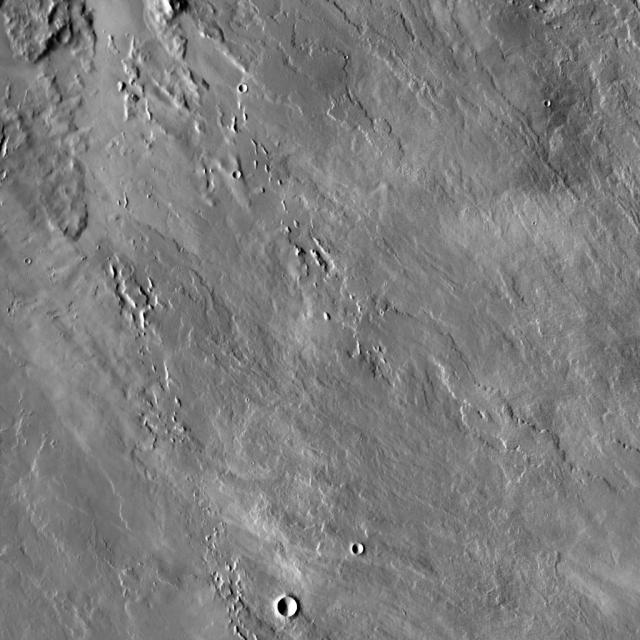crater: (283, 600, 302, 620), (356, 544, 369, 556), (244, 86, 252, 95), (238, 173, 246, 181), (541, 96, 548, 102)
